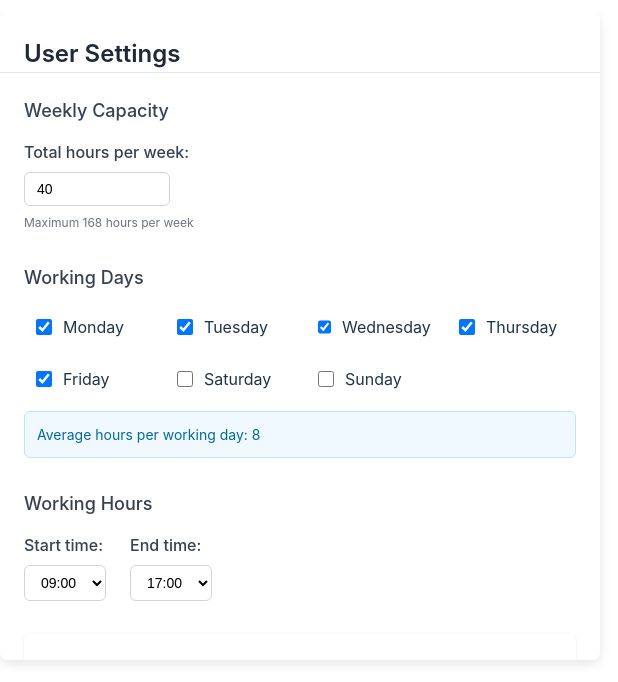
Test case: UserSettings › disables save button when no working days are selected
Click the checkbox labelled "Monday" at (44, 327), box [36,319,52,335]
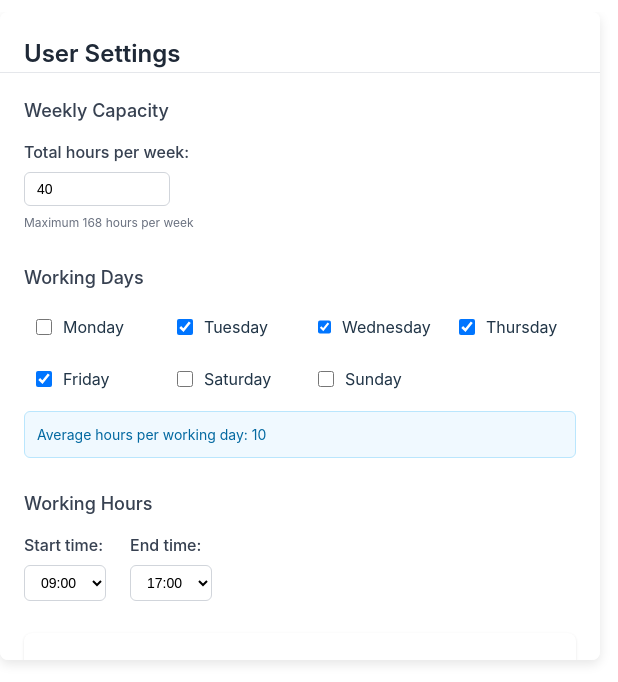
Click the checkbox labelled "Tuesday" at (185, 327), box [177,319,193,335]
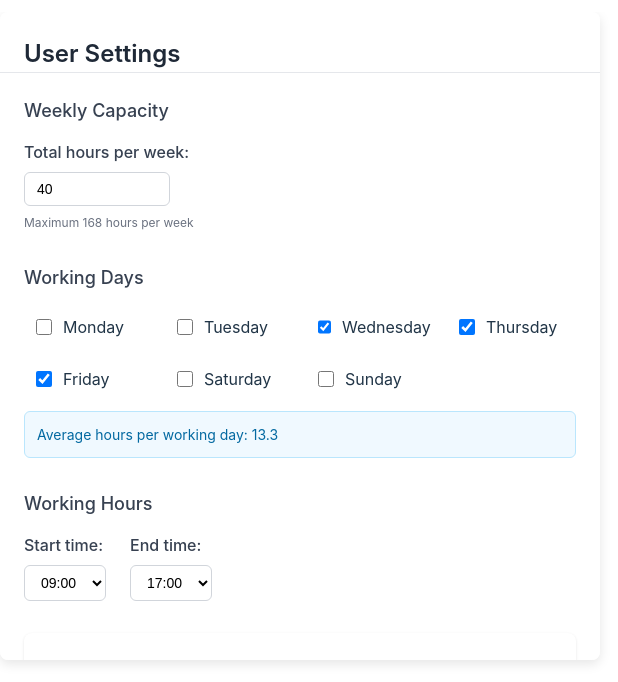
Click the checkbox labelled "Wednesday" at (324, 327), box [318,319,331,335]
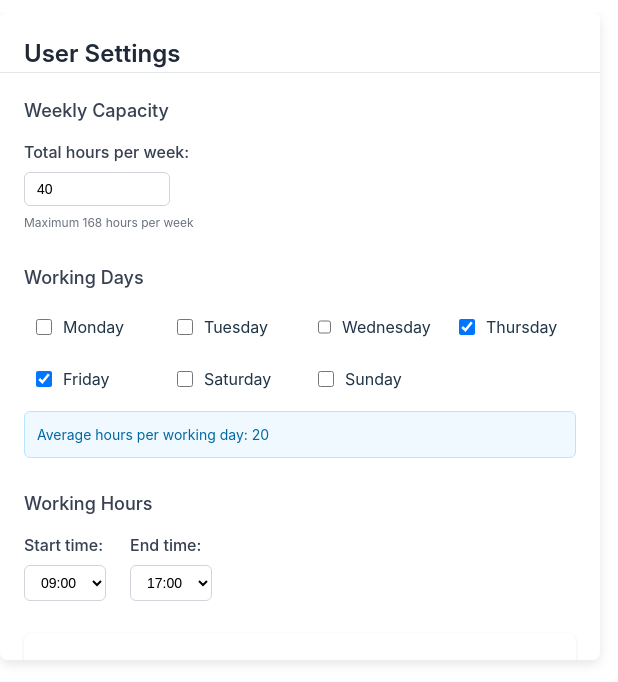
Click the checkbox labelled "Thursday" at (467, 327), box [459,319,475,335]
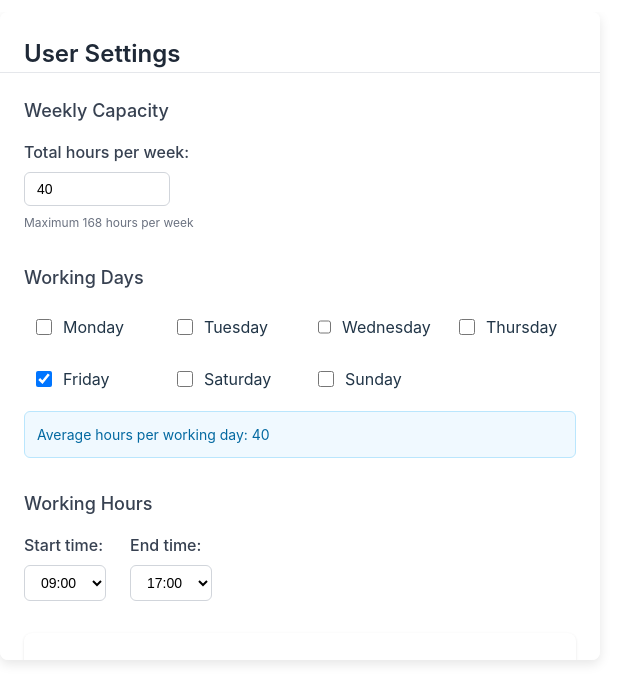
Click the checkbox labelled "Friday" at (44, 379), box [36,371,52,387]
(page scrolled)
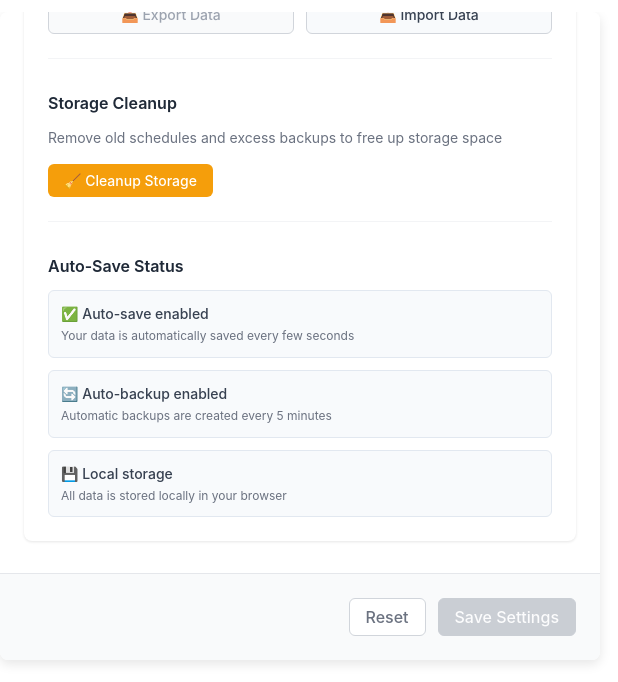
Check: the button "Save Settings" is disabled, box [438,598,576,636]
